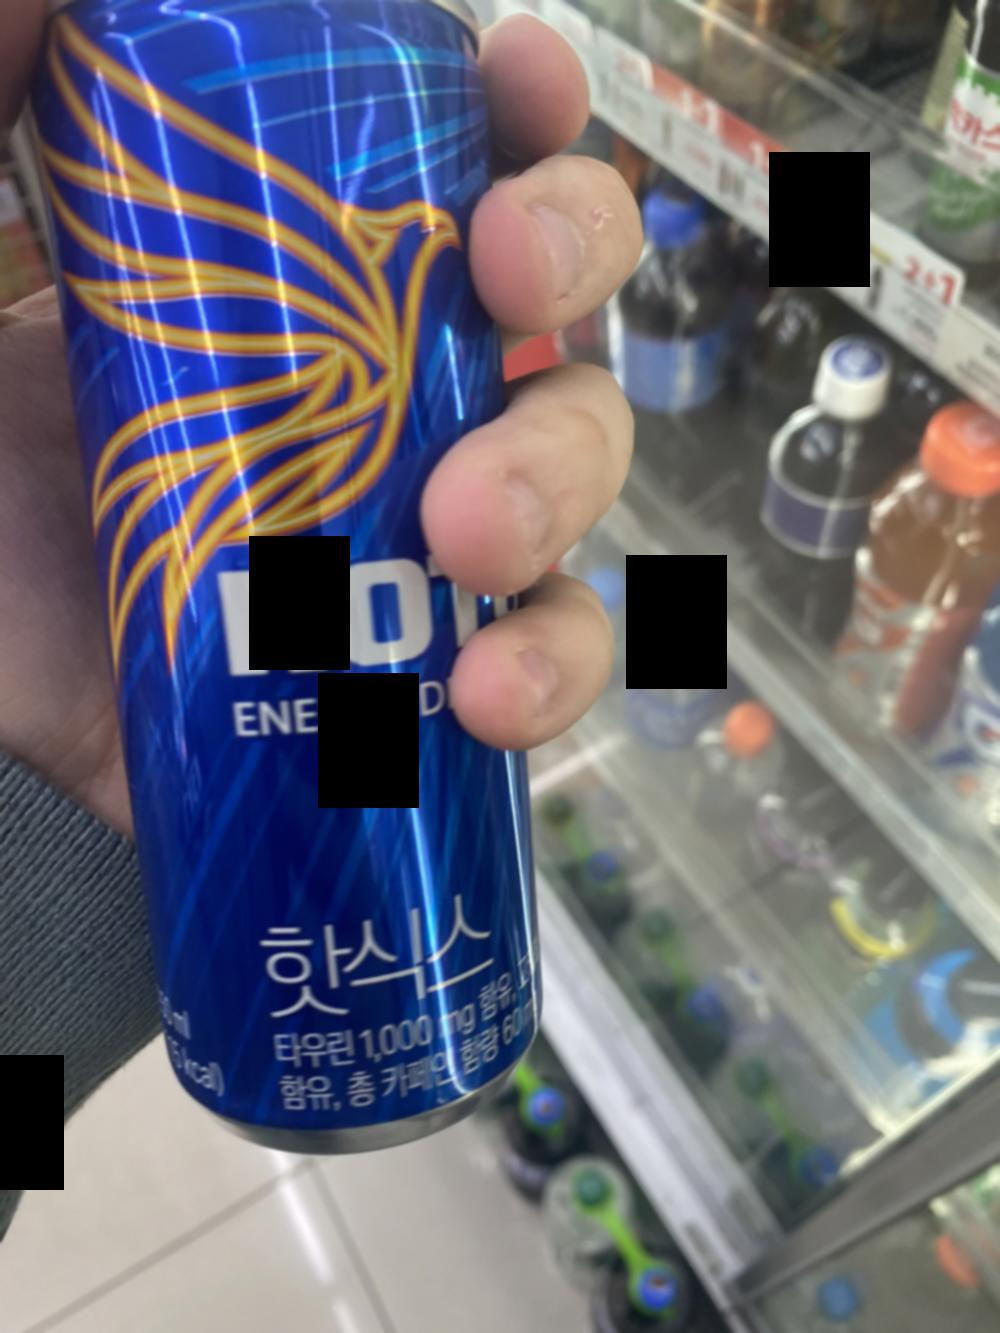hotsix_org: (63, 1, 493, 1142)
